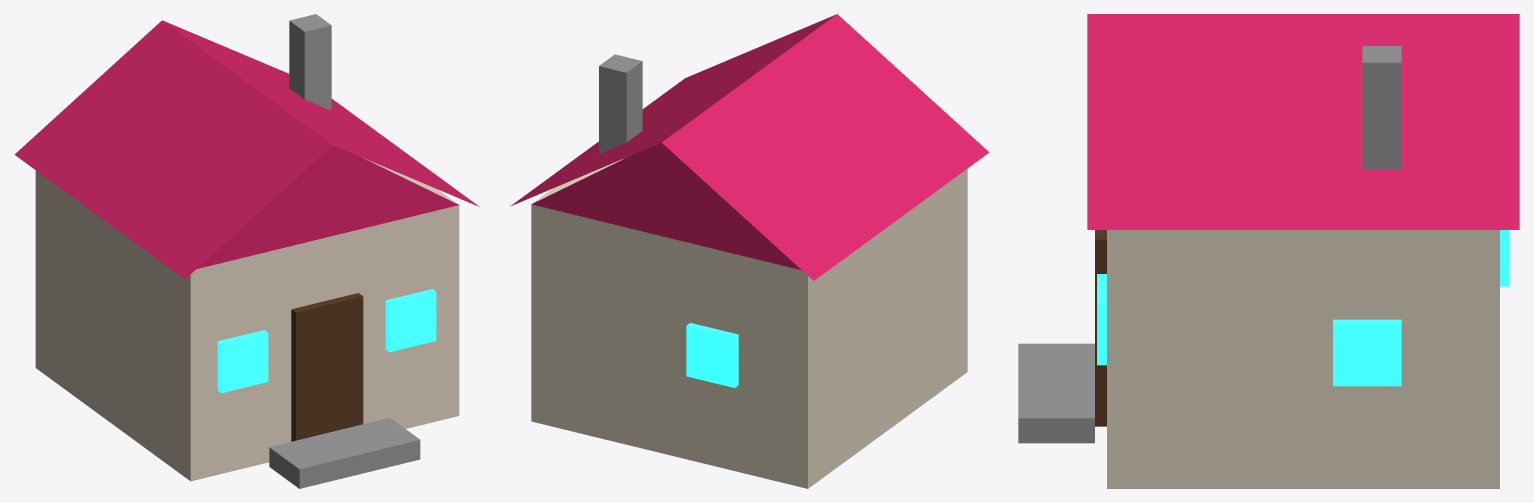
Rendered from house.glb.
3 views of the same model, side by side, from view 1: azimuth 30°, elevation 25°; view 2: azimuth 150°, elevation 25°; view 3: azimuth 270°, elevation 25° (orthographic). The views are drawn at different scales.
Visible parts, largest first — view 1: walls, roof, door, porch, windows, chimney; view 2: walls, roof, chimney, windows; view 3: walls, roof, porch, windows, chimney, door.
Part boxes in pixels (x1,y1,x2,y2): walls: (35, 157, 459, 481); roof: (14, 20, 479, 279); door: (291, 293, 363, 441); porch: (269, 418, 420, 488); windows: (217, 289, 436, 393); chimney: (289, 14, 331, 109); walls: (531, 159, 967, 488); roof: (510, 14, 989, 280); chimney: (599, 54, 642, 158); windows: (686, 323, 738, 387); walls: (1107, 230, 1499, 488); roof: (1087, 14, 1519, 229); porch: (1018, 343, 1094, 443); windows: (1097, 230, 1509, 386); chimney: (1362, 46, 1401, 169); door: (1095, 230, 1106, 426).
Size of the model in its own units: 4.4 by 4.6 by 5.1.
